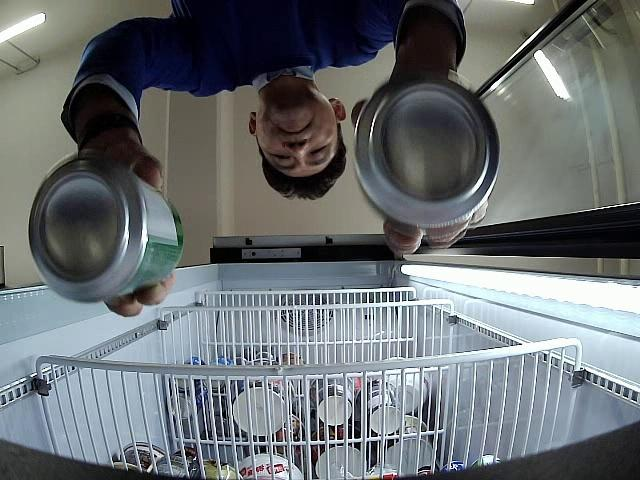00_hand: (352, 64, 488, 254), (78, 141, 176, 316)
12_chilsungCider: (27, 154, 184, 303), (353, 74, 501, 230)
